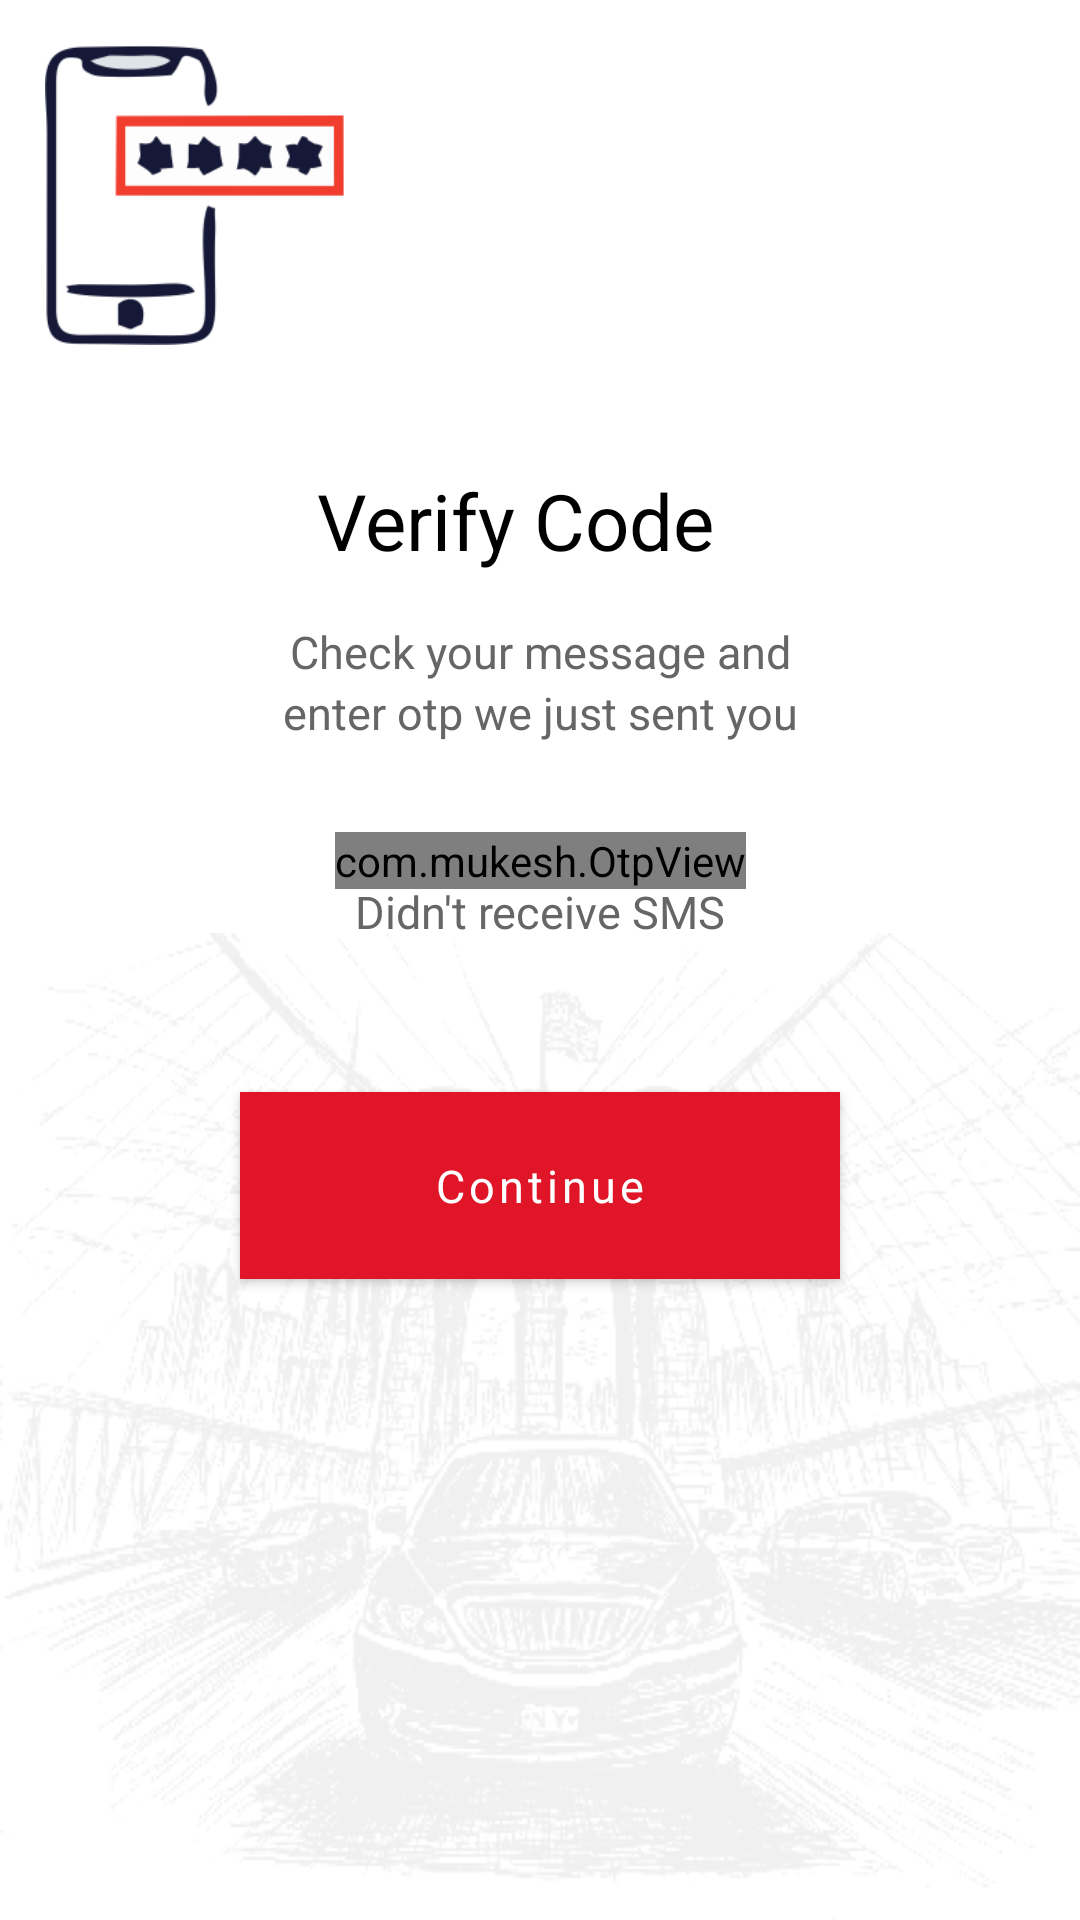

Icons on this 1080px×1920px Android screen, each with the point to tap as [x,y]:
phone: [194,195]
